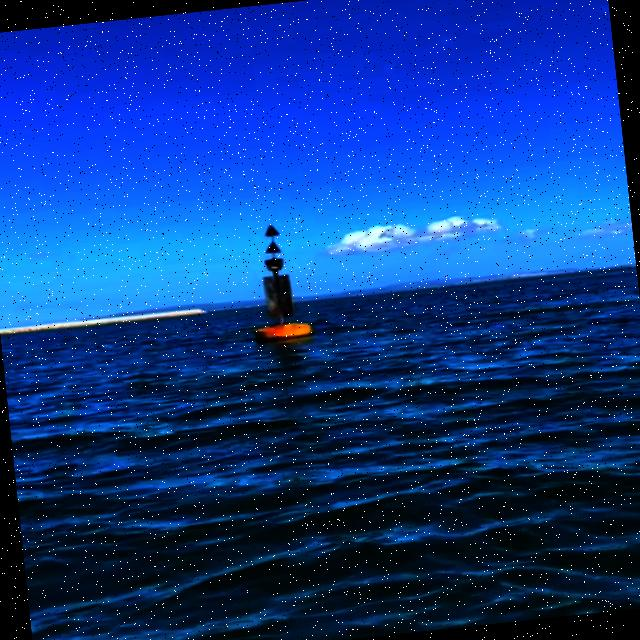marque: (244, 217, 310, 342)
